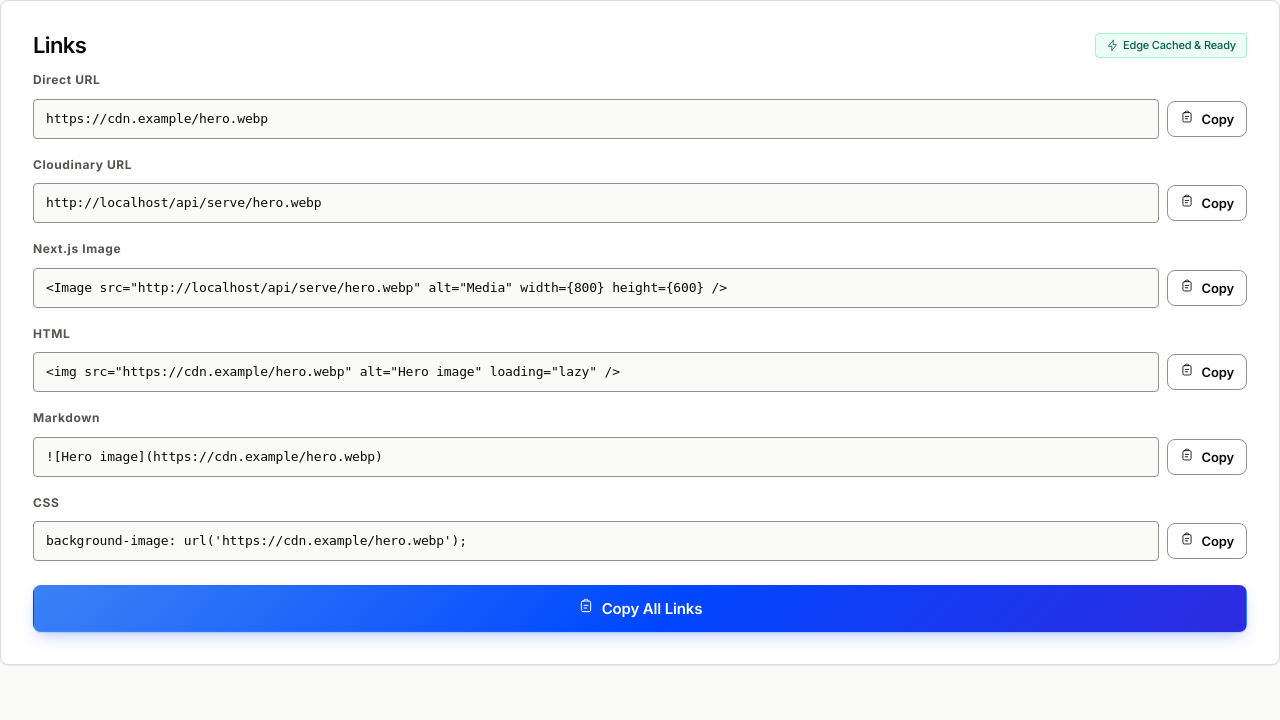
LinkGenerator › copies the direct URL on click
Click the 1st button "Copy" at (1207, 119), box [1166, 101, 1247, 137]
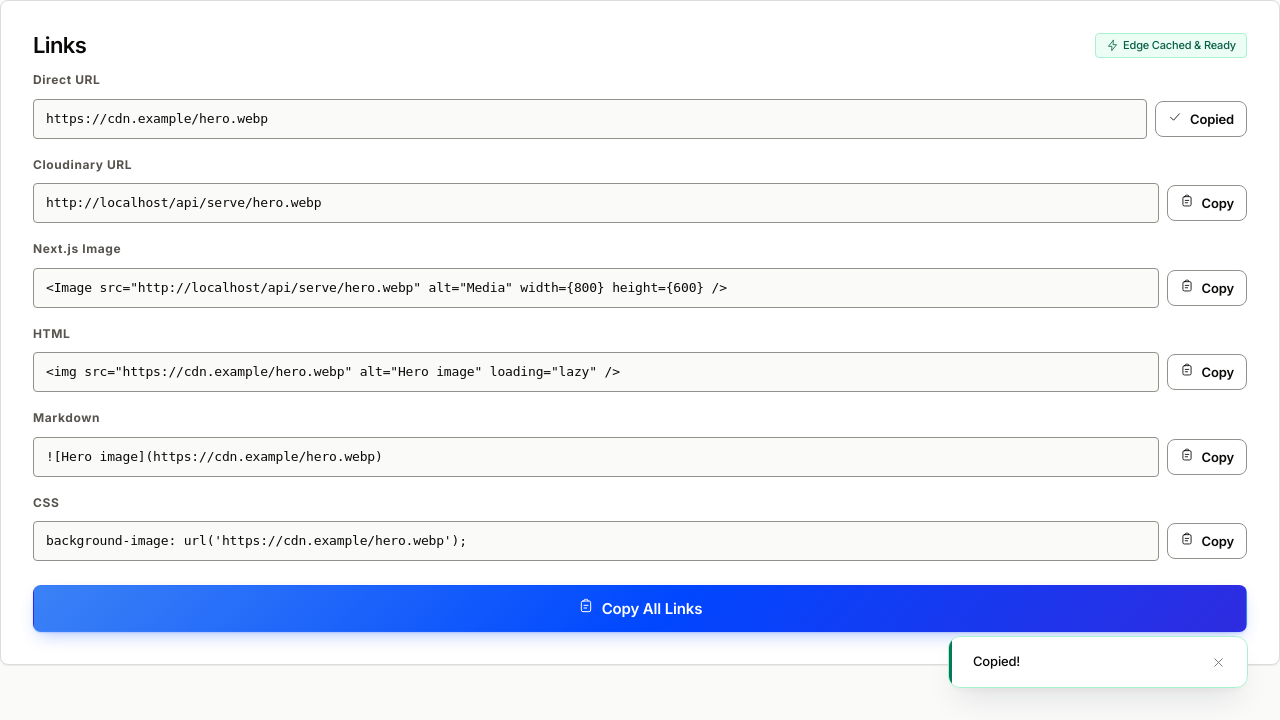
Now the text "Copied!" is shown, box [973, 653, 1020, 671]
